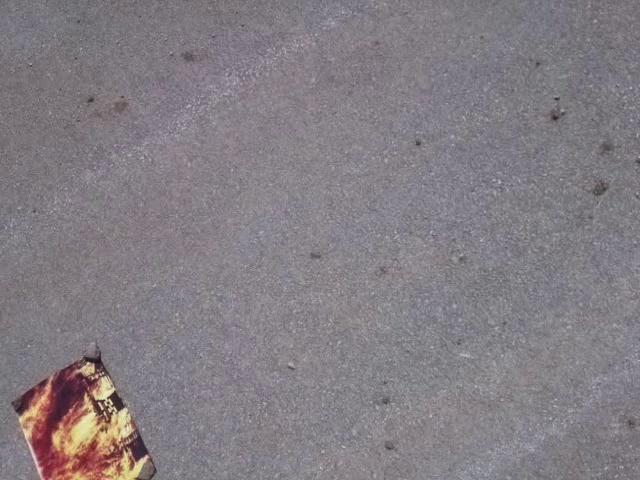fire-poster: (9, 340, 158, 479)
